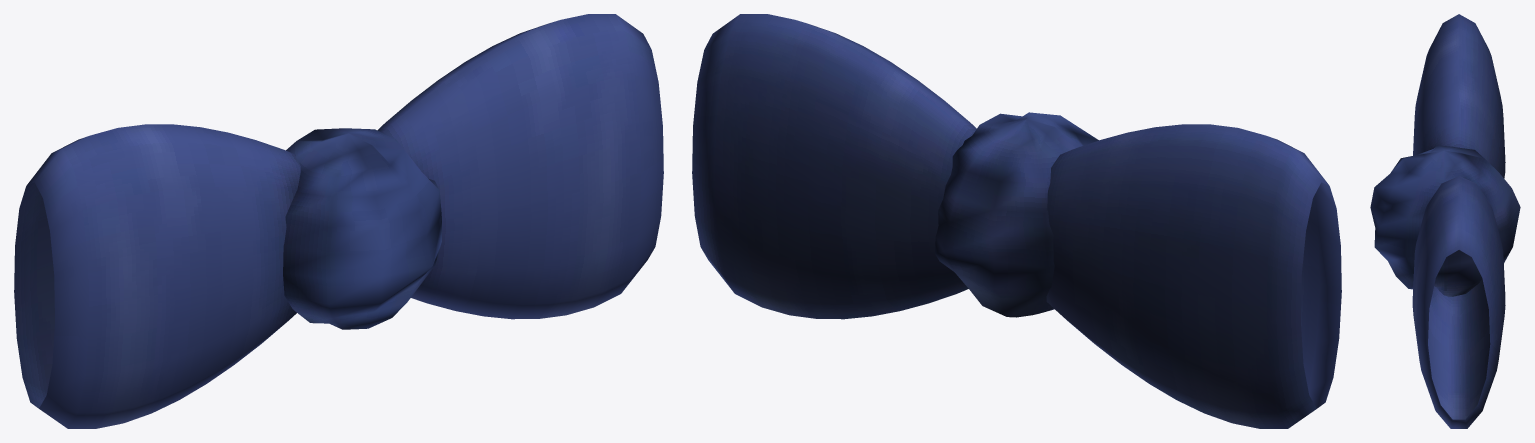
The model's file is bowtie.glb.
3 views of the same model, side by side, from view 1: azimuth 30°, elevation 25°; view 2: azimuth 150°, elevation 25°; view 3: azimuth 270°, elevation 25° (orthographic). The views are drawn at different scales.
Visible parts, largest first — view 1: bowtie_lobel, bowtie_lober, bowtie_knot; view 2: bowtie_lobel, bowtie_lober, bowtie_knot; view 3: bowtie_lober, bowtie_knot, bowtie_lobel.
Boxes of the visible parts, left/top/right/bottom form: bowtie_lobel: left=14, top=124, right=300, bottom=428; bowtie_lober: left=377, top=14, right=663, bottom=319; bowtie_knot: left=283, top=128, right=441, bottom=329; bowtie_lobel: left=1046, top=124, right=1341, bottom=428; bowtie_lober: left=692, top=14, right=976, bottom=319; bowtie_knot: left=935, top=112, right=1098, bottom=317; bowtie_lober: left=1412, top=176, right=1505, bottom=428; bowtie_knot: left=1370, top=145, right=1520, bottom=296; bowtie_lobel: left=1413, top=14, right=1505, bottom=178.
Size of the model in its own units: 6.16 by 2.81 by 1.73.
1 material, 1 textured.
